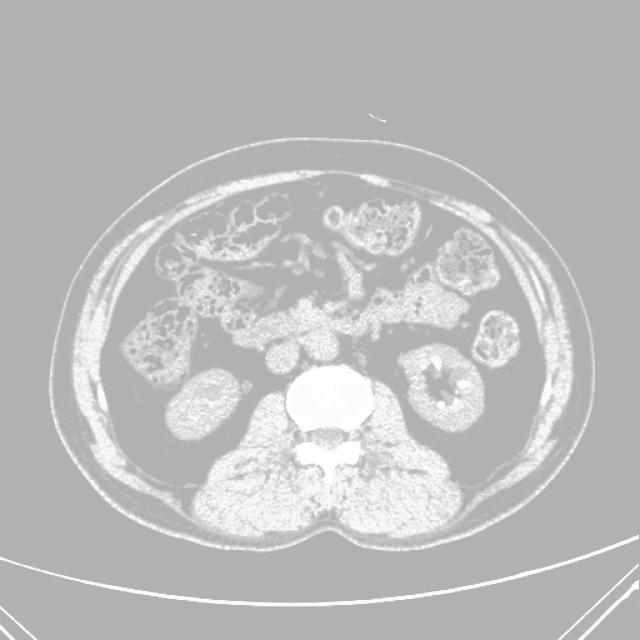STONE: (129, 216, 610, 463)
